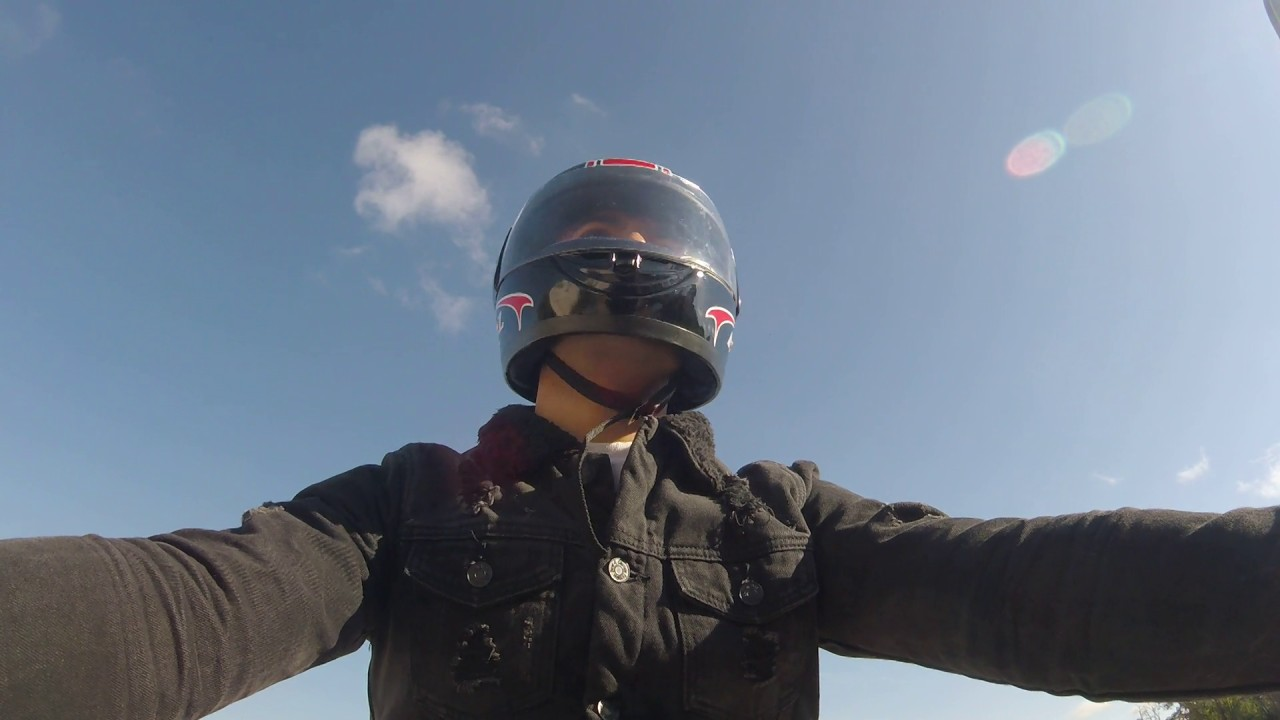With Helmet: (486, 140, 751, 433)
